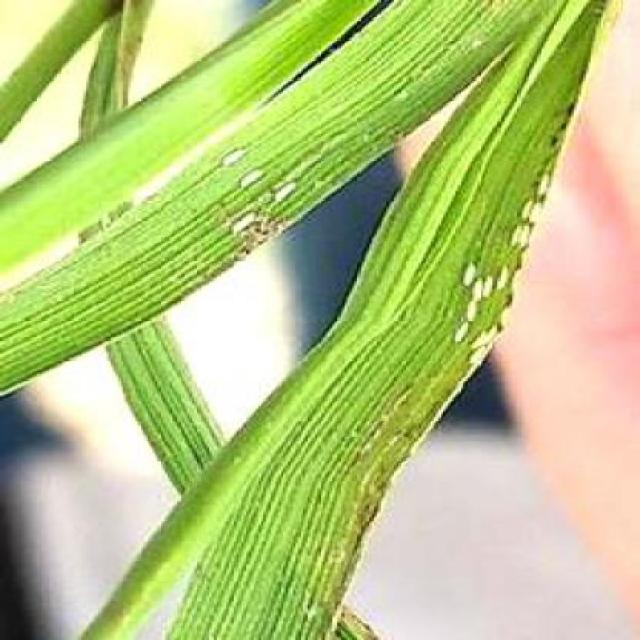whorl-maggot: (209, 144, 257, 173), (505, 223, 538, 259), (276, 178, 310, 210), (228, 211, 266, 238), (471, 269, 498, 306), (527, 164, 556, 198), (454, 254, 477, 292), (522, 195, 549, 227), (492, 260, 514, 298), (453, 318, 482, 345), (234, 171, 268, 189)
